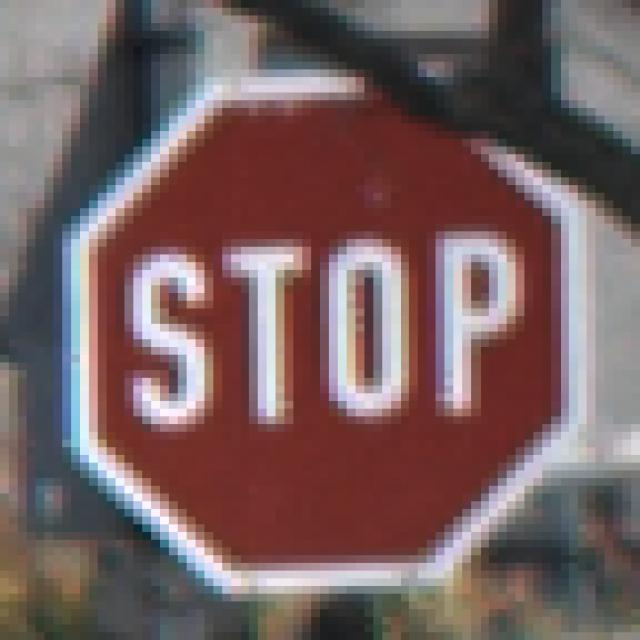STOP: (54, 63, 579, 579)
